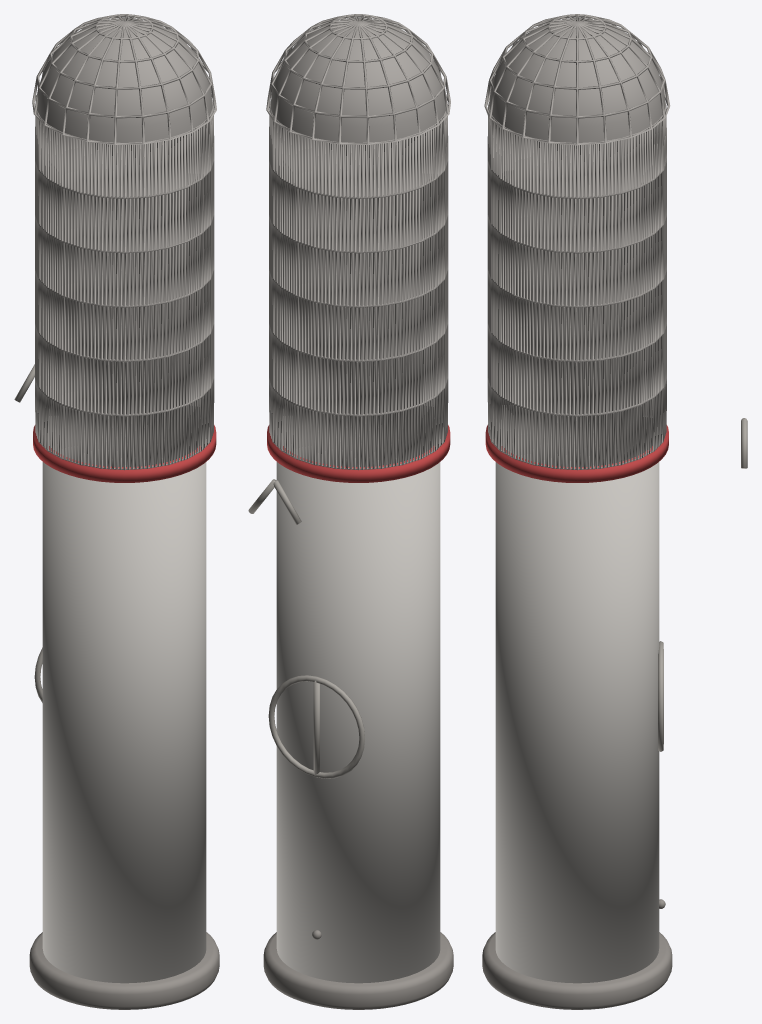
Rendered from microphone.glb.
The picture shows the model from 3 angles, left to right: view 1: azimuth 30°, elevation 25°; view 2: azimuth 150°, elevation 25°; view 3: azimuth 270°, elevation 25°; orthographic projection.
Visible parts, largest first — view 1: Microphone; view 2: Microphone; view 3: Microphone.
Boxes of the visible parts, bbox=[...] form: Microphone: bbox=[14, 14, 219, 1009]; Microphone: bbox=[248, 14, 453, 1009]; Microphone: bbox=[482, 14, 747, 1009].
Bounding box in the file's own units: 0.058 × 0.3204 × 0.081.
